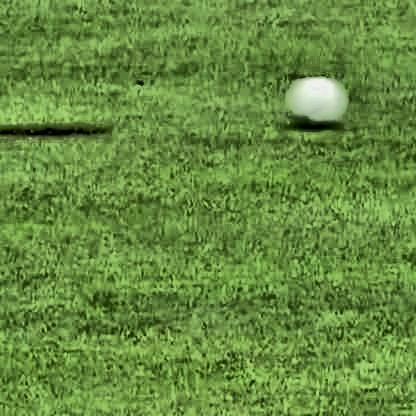golfball: (286, 79, 342, 127)
